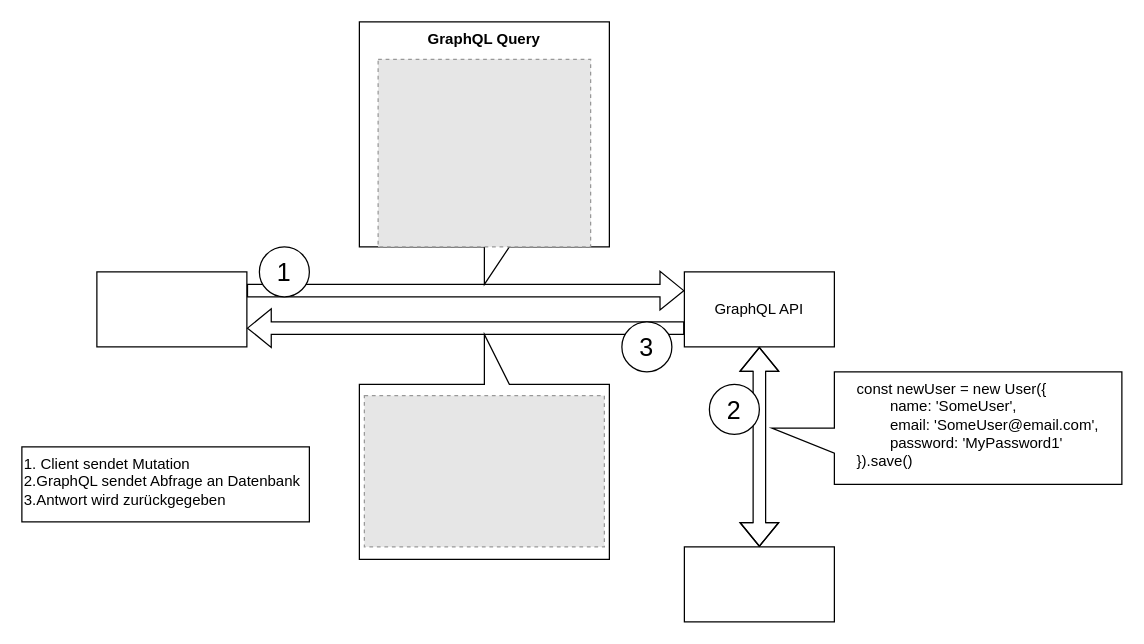
The diagram is 1144 pixels wide and 644 high, and some of its shapes have lost their labels. Grey dashed boxes stand in for pictures. The centre of each missing label's shape, as x and y in pixels:
"Datenbank" goes at point (758, 584).
"Web Client" goes at point (171, 309).
